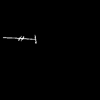treble_crochet: (19, 37, 35, 42)
